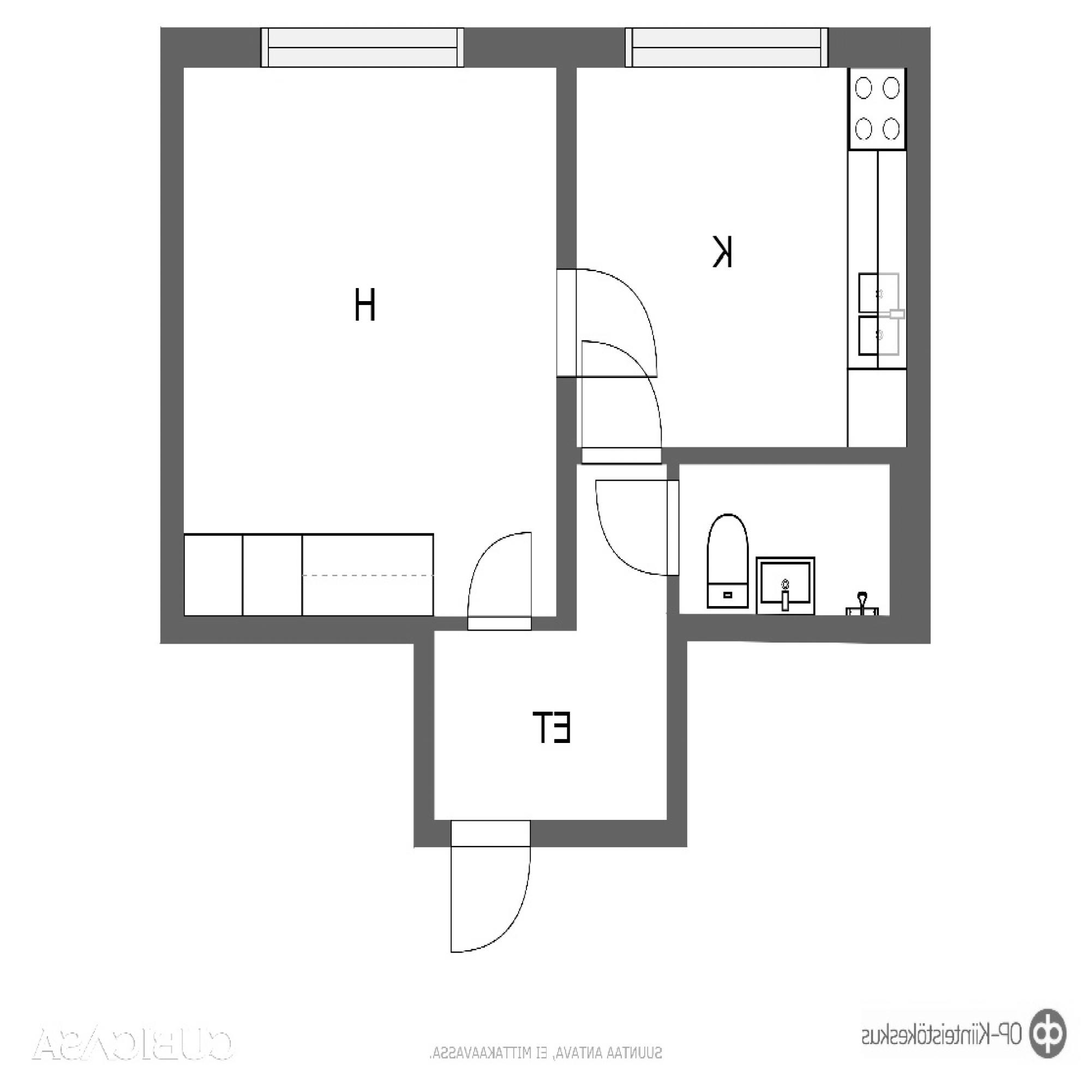wall: (159, 27, 930, 66), (159, 27, 183, 643), (555, 27, 576, 630), (906, 27, 930, 463), (159, 615, 434, 643), (414, 817, 686, 845), (665, 615, 929, 643), (890, 463, 930, 643), (555, 447, 930, 463), (666, 615, 686, 846), (414, 615, 434, 846), (434, 615, 576, 630), (666, 447, 678, 615)
